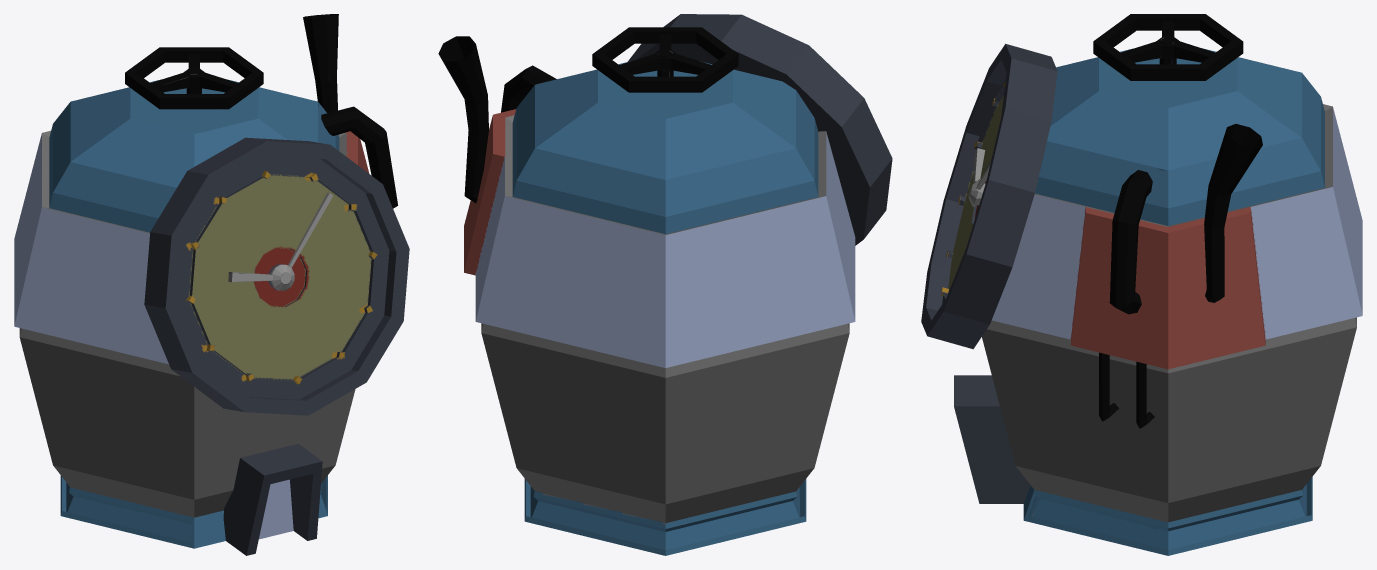
File: yugou.fbx
3 views of the same model, side by side, from view 1: azimuth 30°, elevation 25°; view 2: azimuth 150°, elevation 25°; view 3: azimuth 270°, elevation 25° (orthographic). The views are drawn at different scales.
Parts seen in each view (by area): view 1: 柱体.001; view 2: 柱体.001; view 3: 柱体.001.
Boxes of the visible parts, x1,y1,x2,y2 form: 柱体.001: (14, 14, 409, 555); 柱体.001: (438, 14, 892, 555); 柱体.001: (921, 14, 1362, 555).
Bounding box in the file's own units: 240 × 254 × 229.
Materials: 1 (1 with a texture image).
